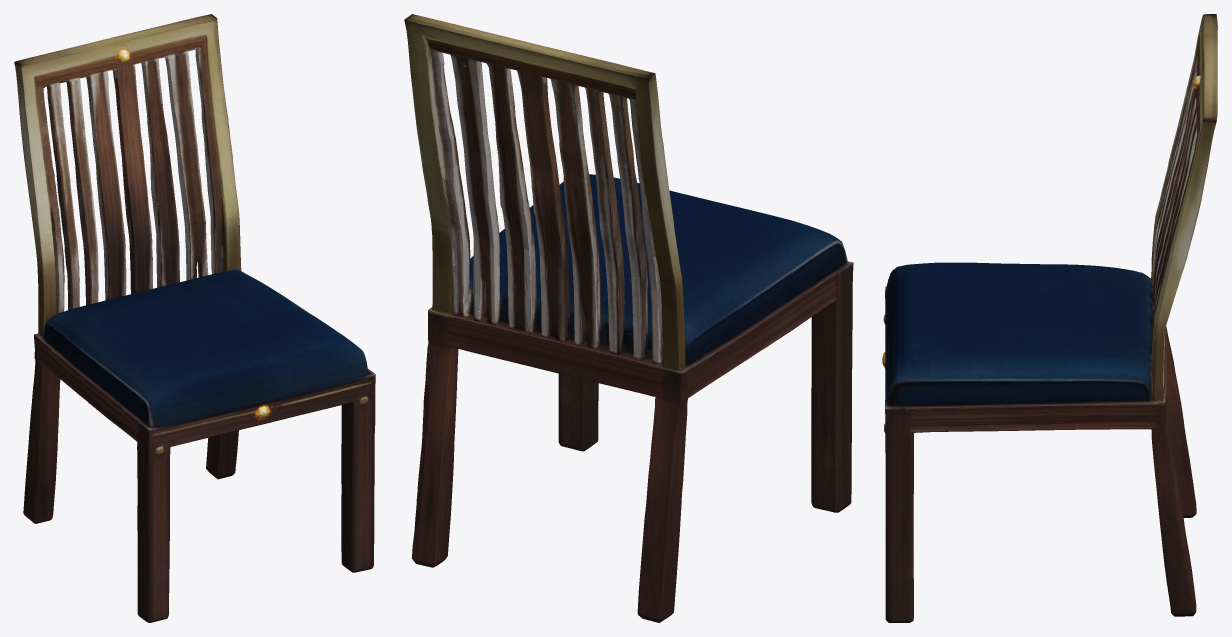
The model's file is dining_chair.glb.
3 renders of one model, left to right at view 1: azimuth 30°, elevation 25°; view 2: azimuth 150°, elevation 25°; view 3: azimuth 270°, elevation 25°, orthographic. The views are drawn at different scales.
Visible parts, largest first — view 1: world; view 2: world; view 3: world.
Part boxes in pixels (x1,y1,x2,y2): world: [14, 14, 375, 622]; world: [404, 14, 853, 622]; world: [882, 14, 1217, 622].
Size of the model in its own units: 0.53 by 1 by 0.6128.
1 material, 1 textured.
